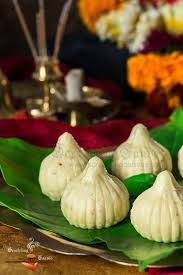modak: (58, 149, 132, 229), (129, 168, 183, 242), (111, 123, 173, 182), (39, 135, 92, 193)
